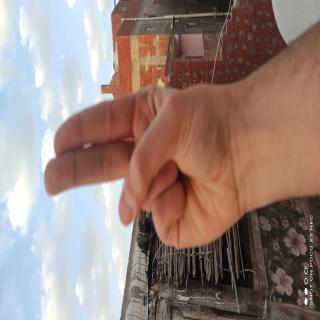TA: (26, 92, 107, 320)
